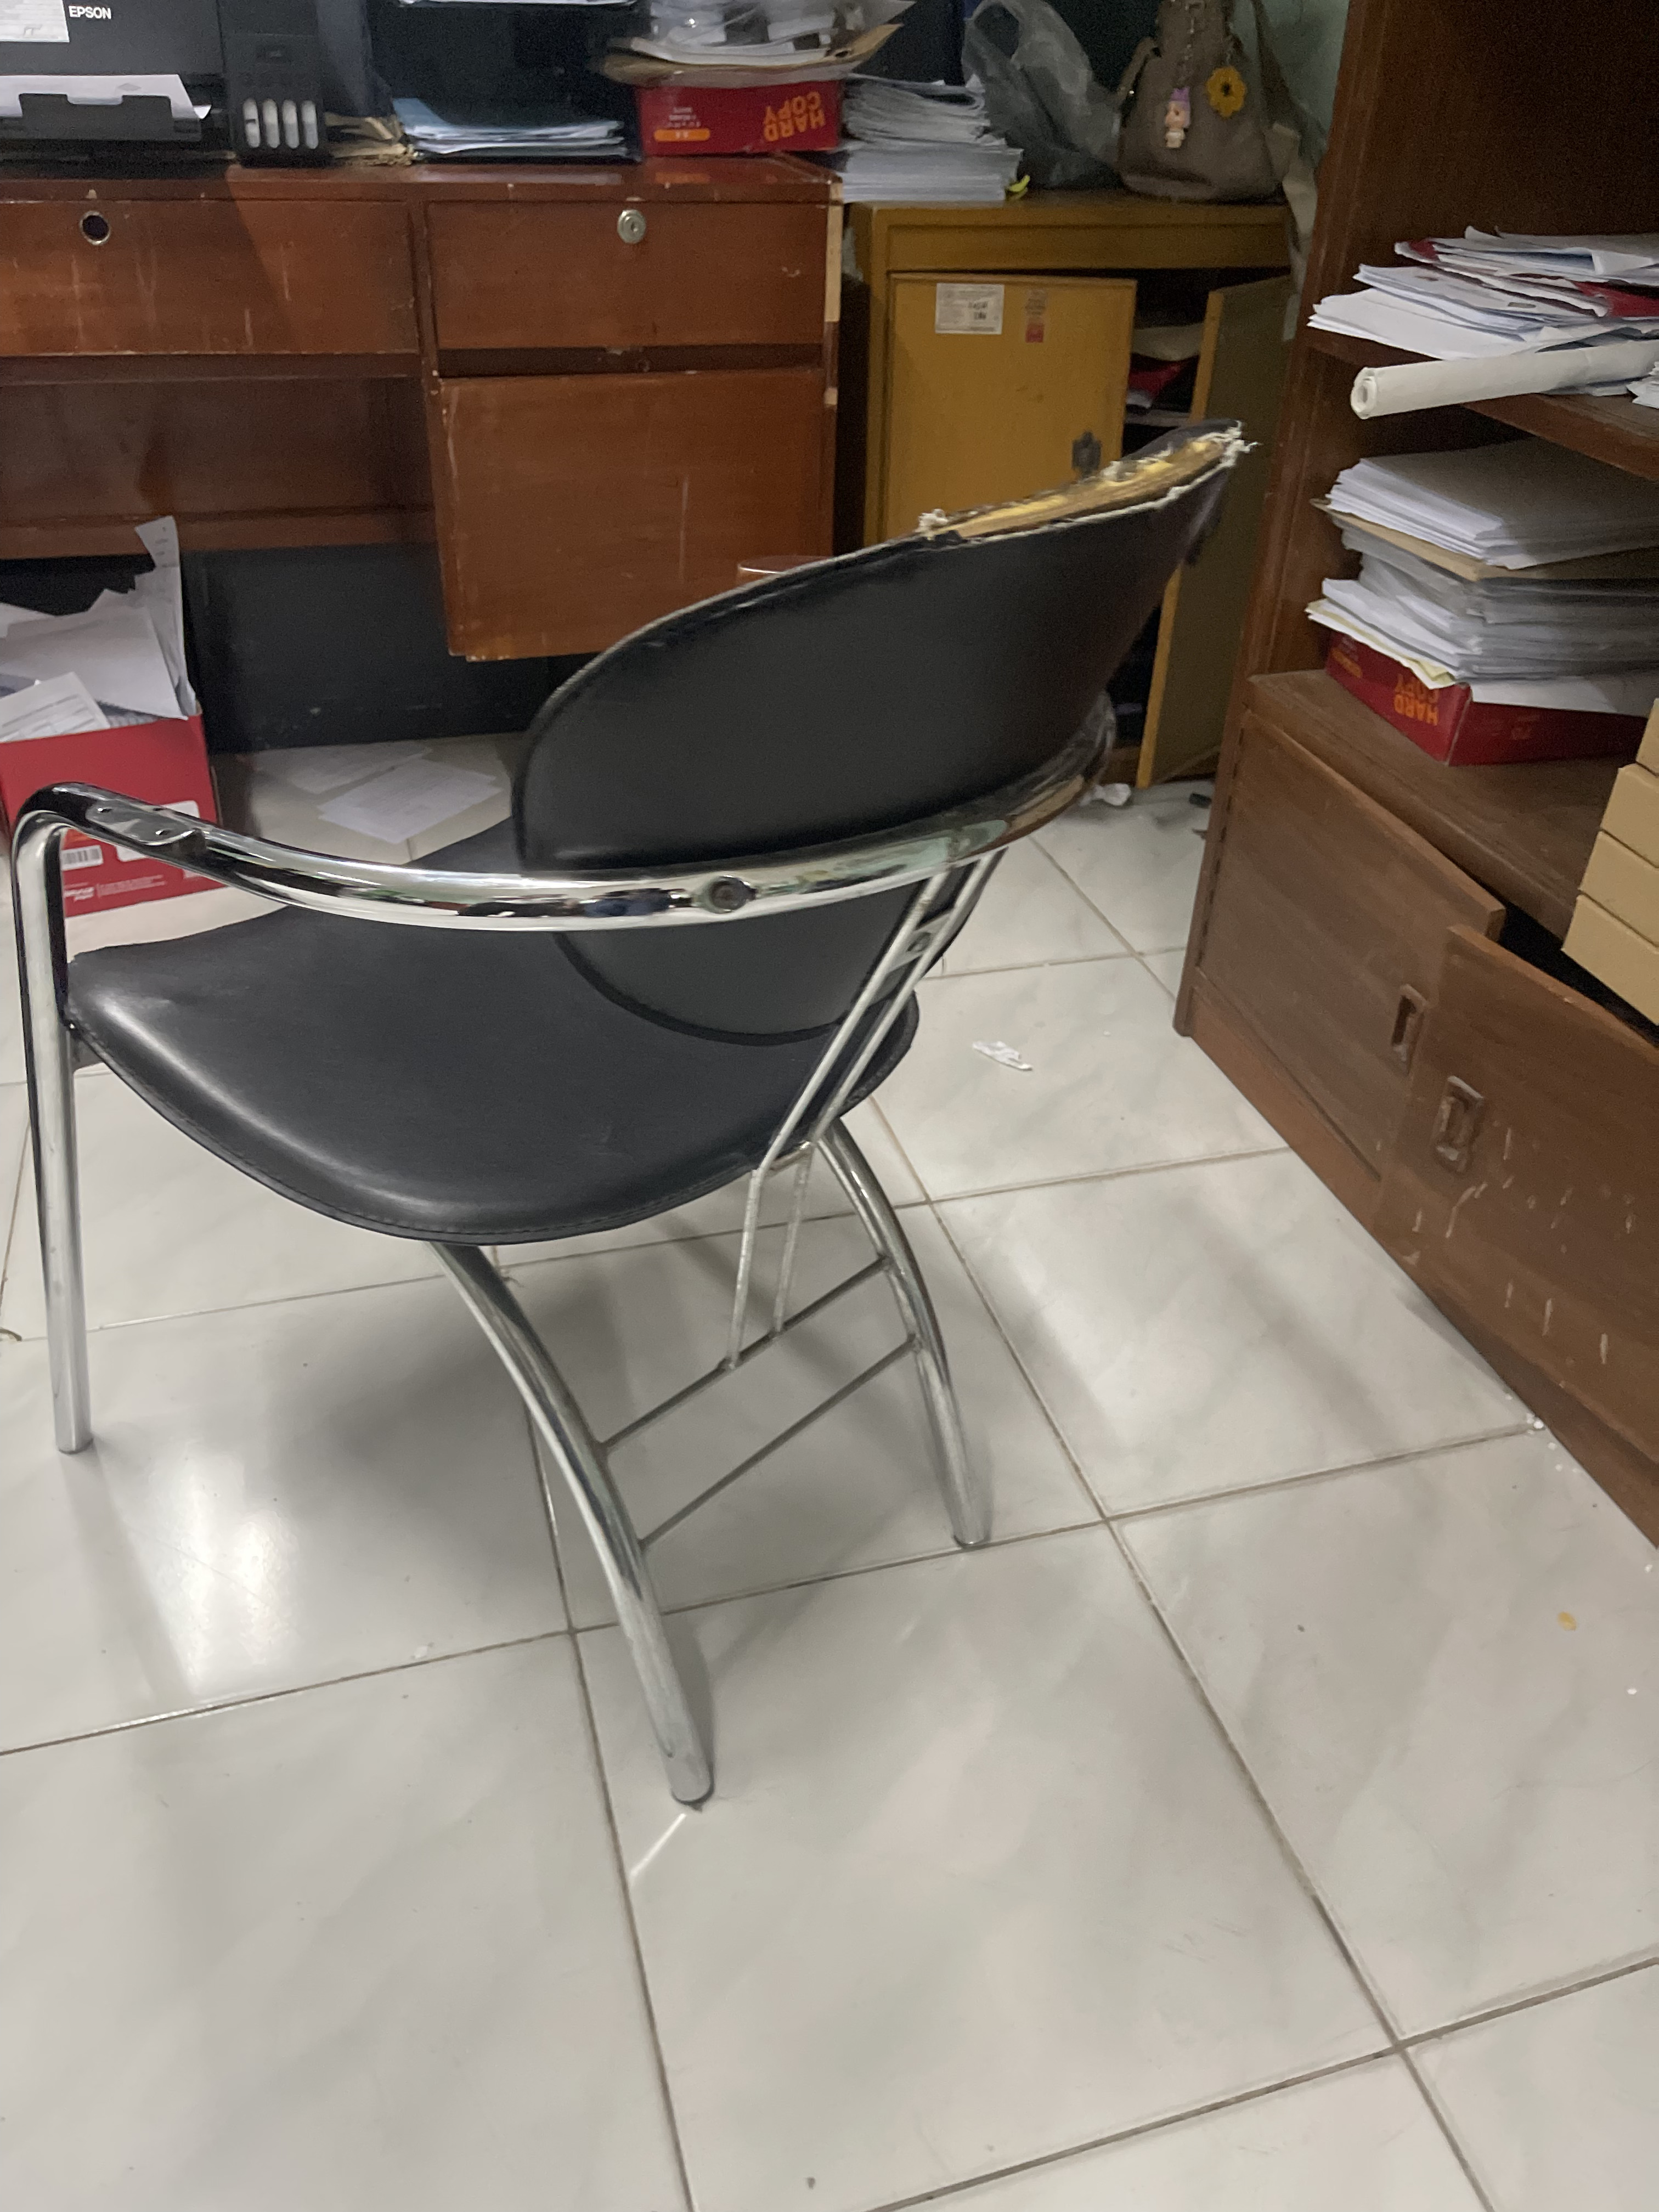chair1: (23, 428, 1269, 1808)
